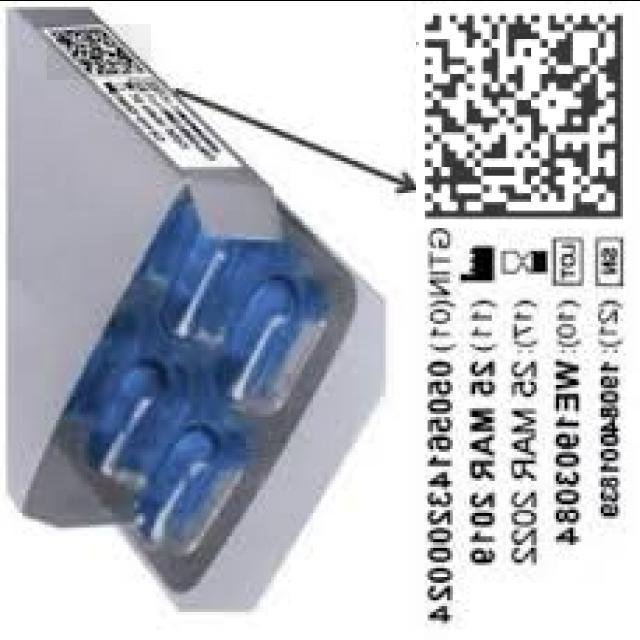Data-Matrix: (416, 3, 632, 227), (47, 23, 151, 79)
